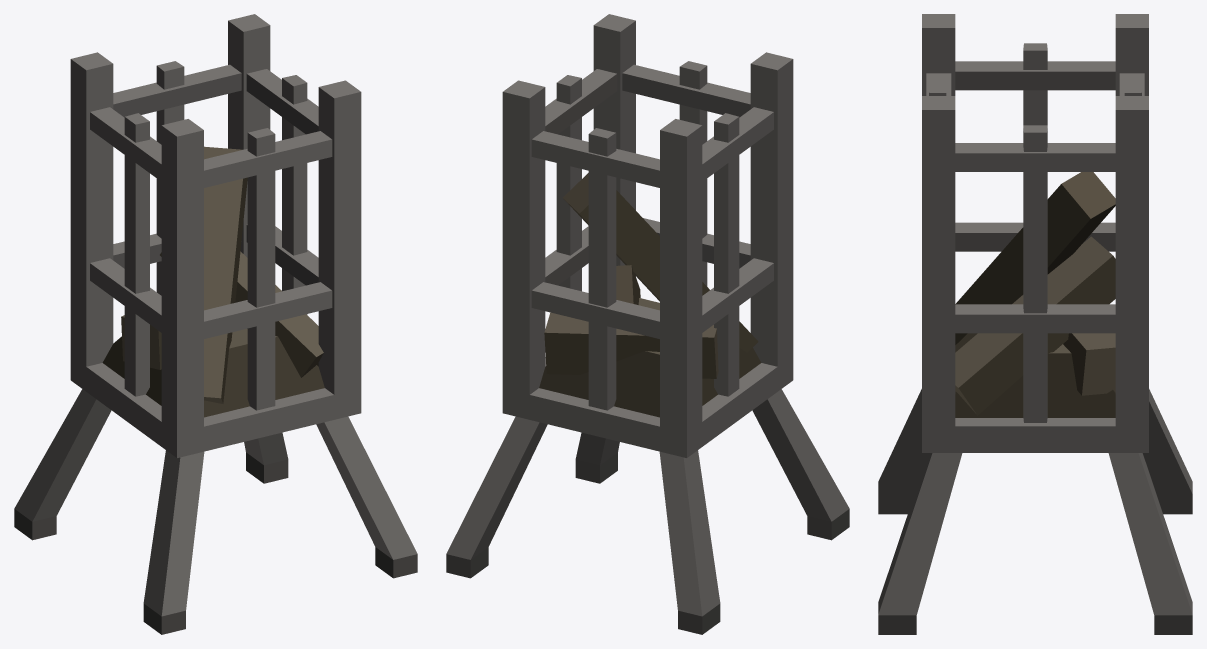
File: SD_Prop_Brazier_01.fbx
3 renders of one model, left to right at view 1: azimuth 30°, elevation 25°; view 2: azimuth 150°, elevation 25°; view 3: azimuth 270°, elevation 25°, orthographic. The views are drawn at different scales.
Parts seen in each view (by area): view 1: SD_Prop_Brazier_01; view 2: SD_Prop_Brazier_01; view 3: SD_Prop_Brazier_01.
Part boxes in pixels (<box>): SD_Prop_Brazier_01: <box>14,14,417,634</box>; SD_Prop_Brazier_01: <box>446,14,849,634</box>; SD_Prop_Brazier_01: <box>878,14,1192,634</box>.
Bounding box in the file's own units: 0.9845 × 1.74 × 0.9817.
